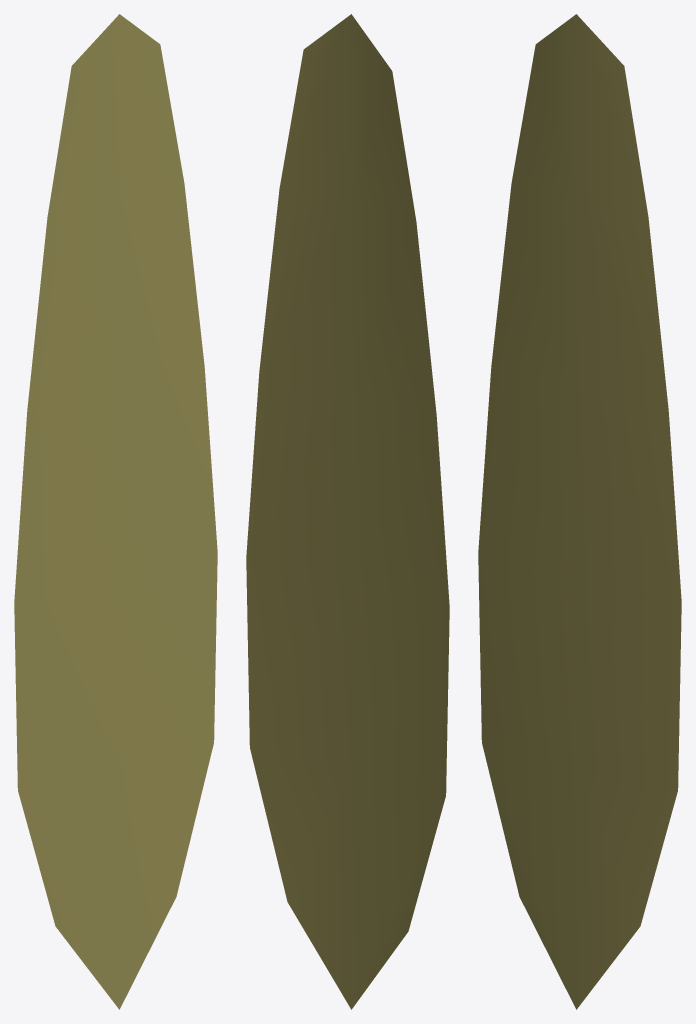
File: lovebird_feather_flight_primary_003.obj
3 renders of one model, left to right at view 1: azimuth 30°, elevation 25°; view 2: azimuth 150°, elevation 25°; view 3: azimuth 330°, elevation 25°, orthographic.
Parts seen in each view (by area): view 1: feather_flight_primary_003; view 2: feather_flight_primary_003; view 3: feather_flight_primary_003.
Boxes of the visible parts, x1,y1,x2,y2 form: feather_flight_primary_003: (14, 14, 217, 1009); feather_flight_primary_003: (246, 14, 449, 1009); feather_flight_primary_003: (478, 14, 681, 1009).
Size of the model in its own units: 0.00534 by 0.025 by 0.00016.
